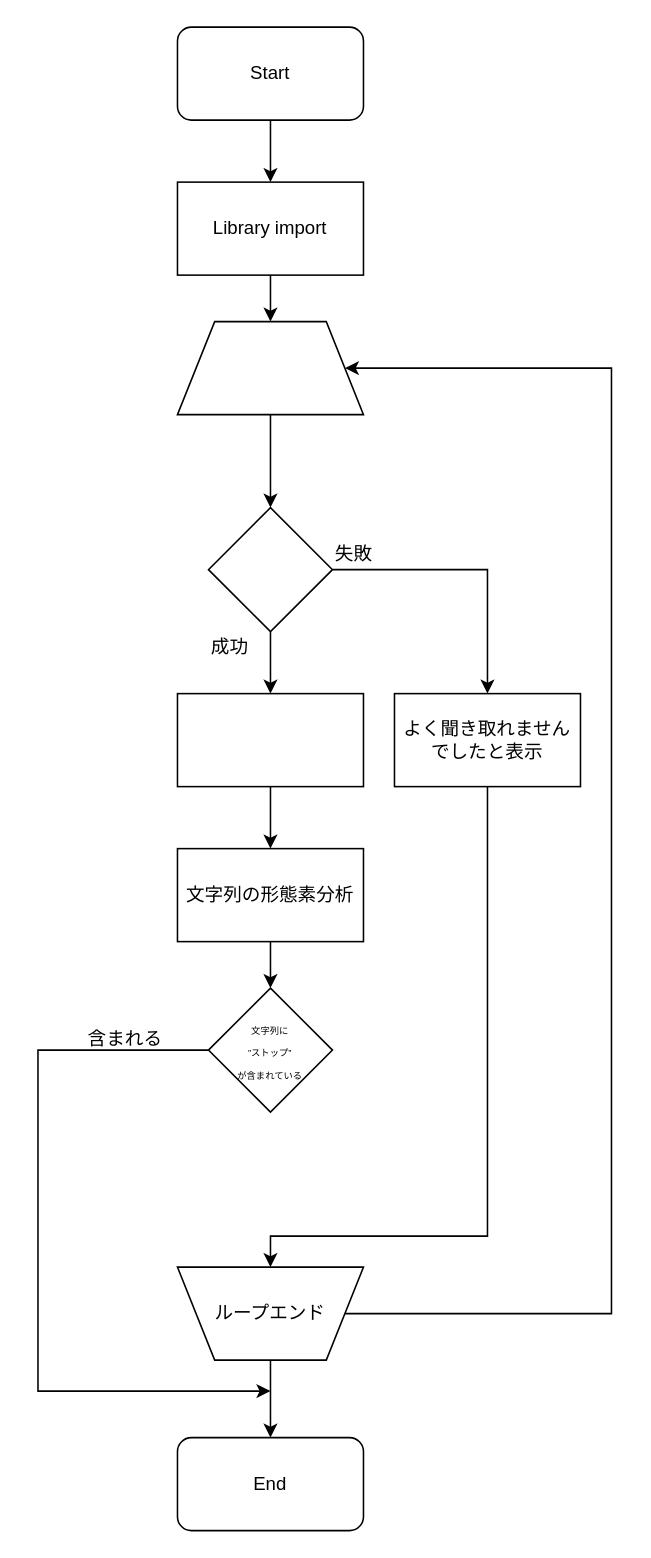
Some shapes in this 651 by 1558 pixel diagram are drawn without their labels. Here are the shapes that lost their labels. From the top down, the box of each, then its label:
(176, 320, 363, 415): ループスタート
(207, 506, 332, 632): 音声認識
(176, 692, 363, 787): ノイズ削除 文字列データに変換
